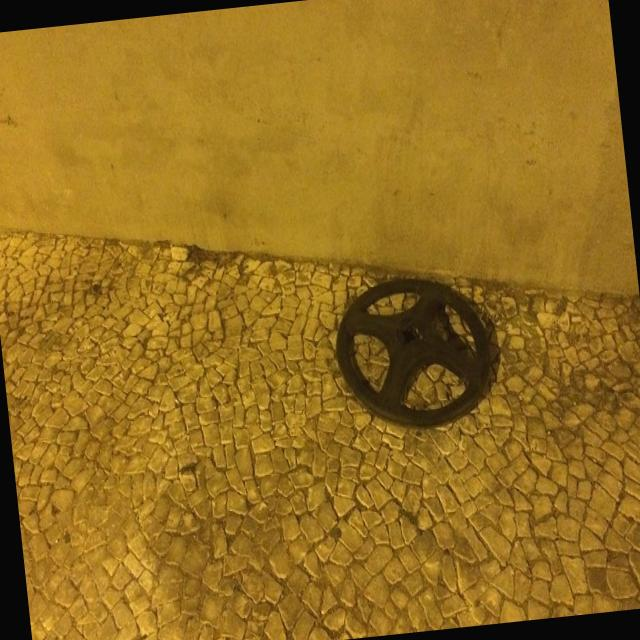Trash: (327, 266, 497, 434)
